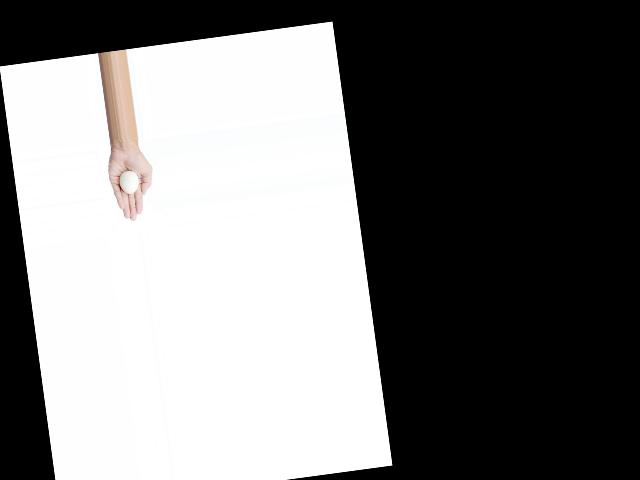egg: (118, 169, 139, 195)
